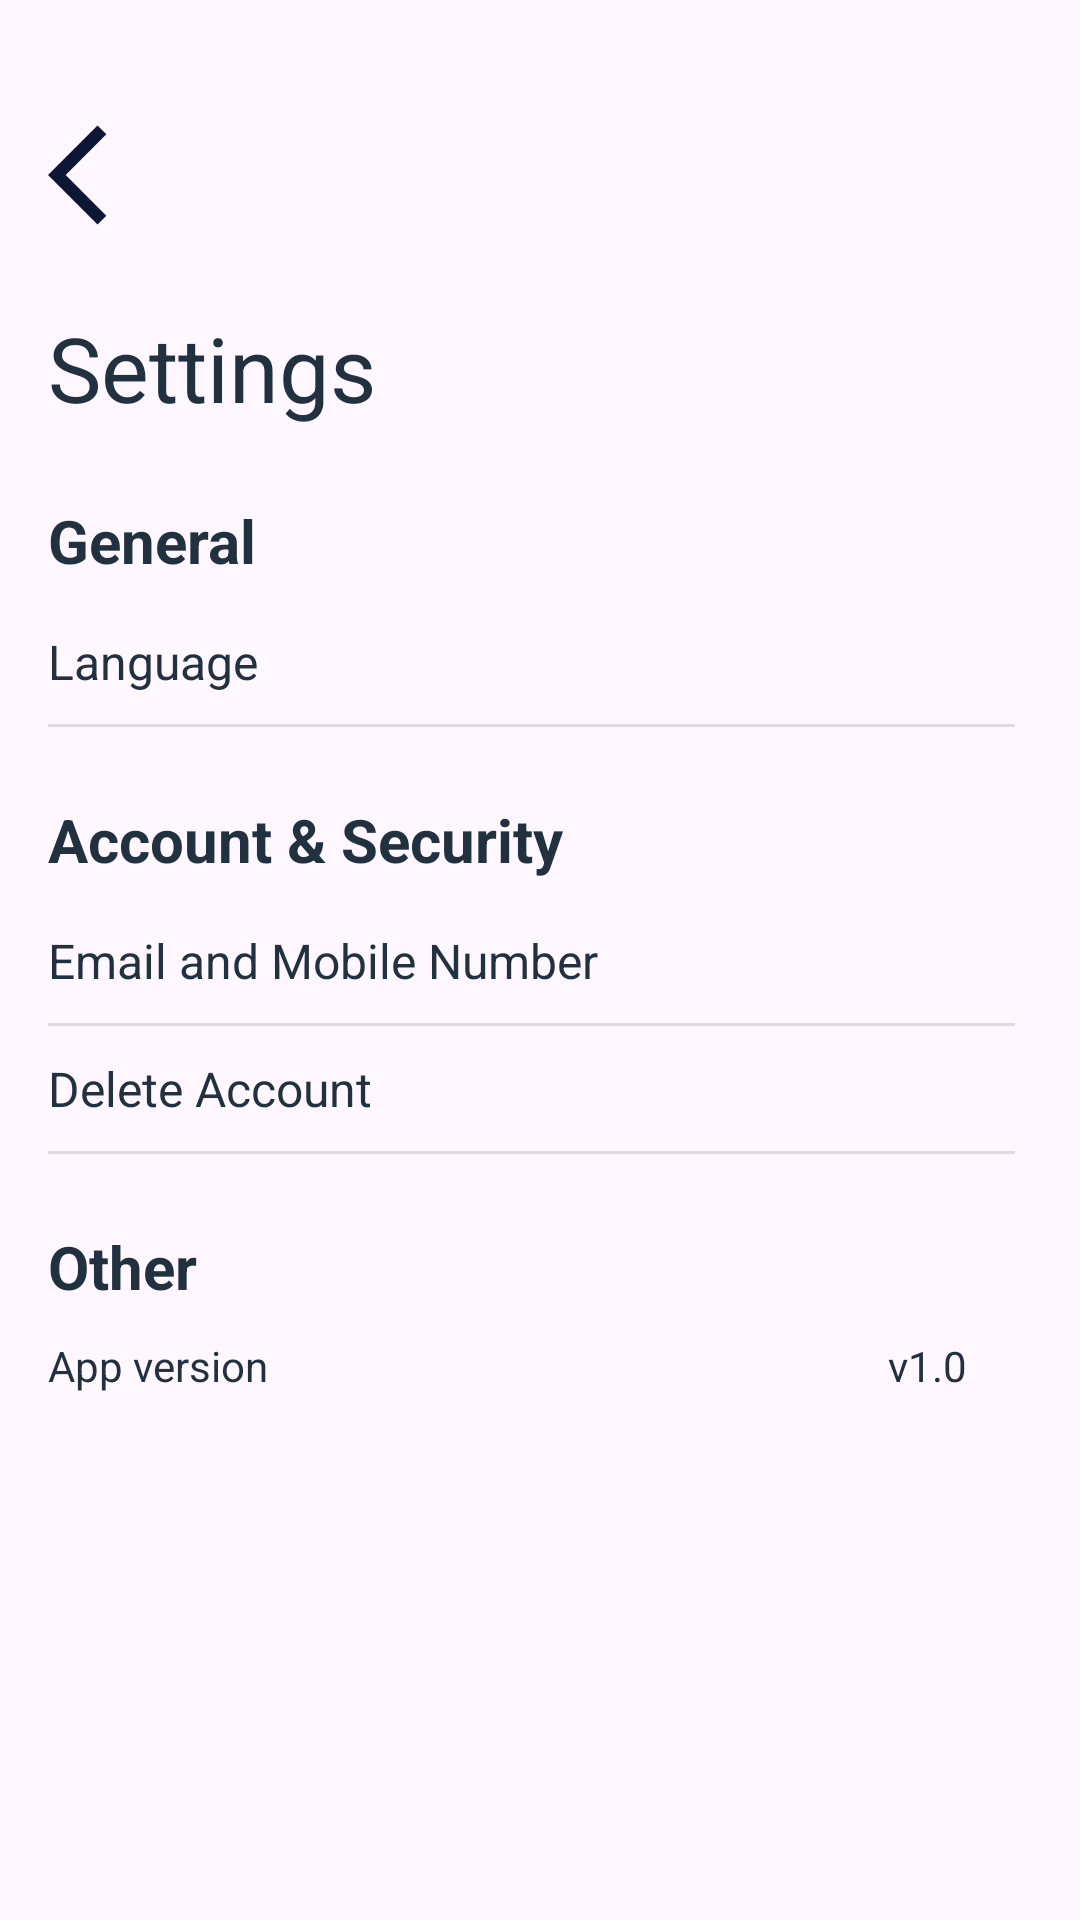

Icons on this 1080×1920 Android screen, each with the point to tap as point (x, y):
arrow back darkblue: point (77, 175)
